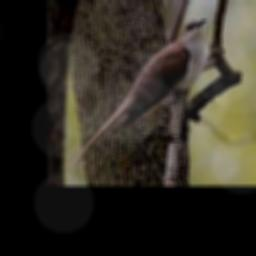Cuckoo: (69, 18, 207, 170)
